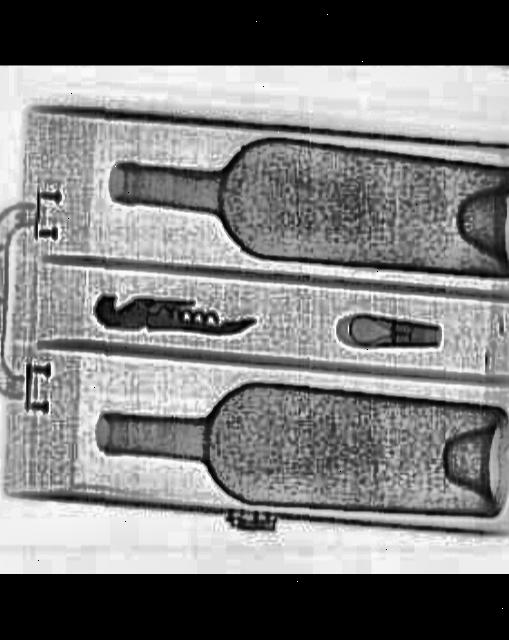Knife: (86, 293, 252, 346)
